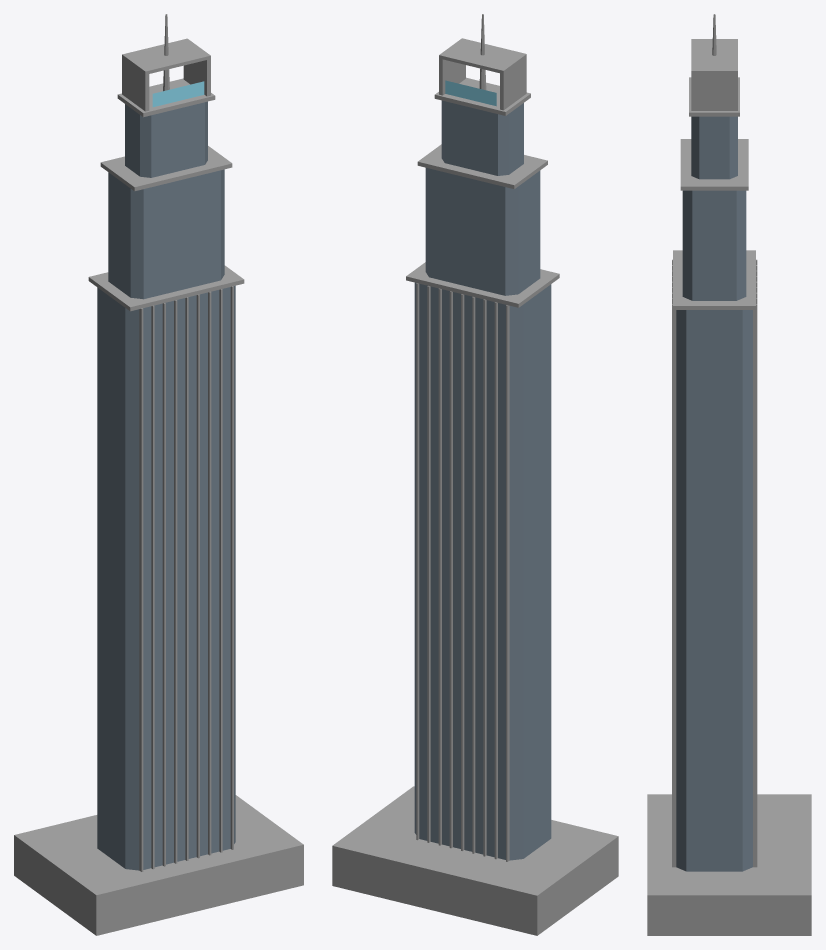
Rendered from karlatornet.glb.
The picture shows the model from 3 angles, left to right: view 1: azimuth 30°, elevation 25°; view 2: azimuth 150°, elevation 25°; view 3: azimuth 270°, elevation 25°; orthographic projection.
Visible parts, largest first — view 1: karlatornet, frame, sign; view 2: karlatornet, frame, sign; view 3: karlatornet, frame.
Boxes of the visible parts, x1=… form: karlatornet: x1=97, y1=101, x2=235, y2=870; frame: x1=14, y1=14, x2=303, y2=935; sign: x1=152, y1=81, x2=204, y2=107; karlatornet: x1=414, y1=100, x2=551, y2=860; frame: x1=332, y1=14, x2=618, y2=935; sign: x1=445, y1=80, x2=496, y2=106; karlatornet: x1=676, y1=116, x2=752, y2=871; frame: x1=647, y1=14, x2=811, y2=935.
Size of the model in its own units: 64 by 257 by 44.
